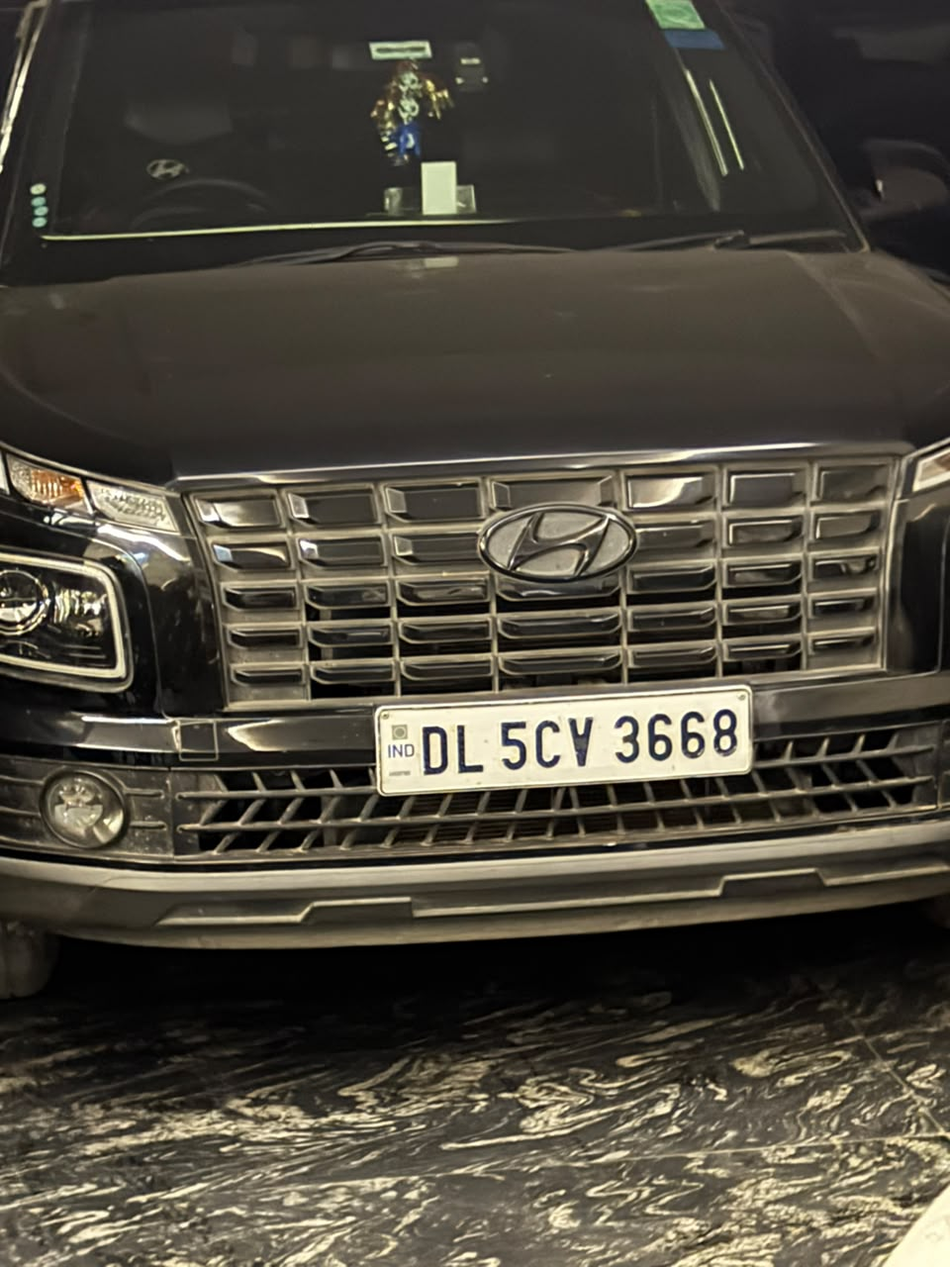vehicle: (379, 688, 751, 794)
